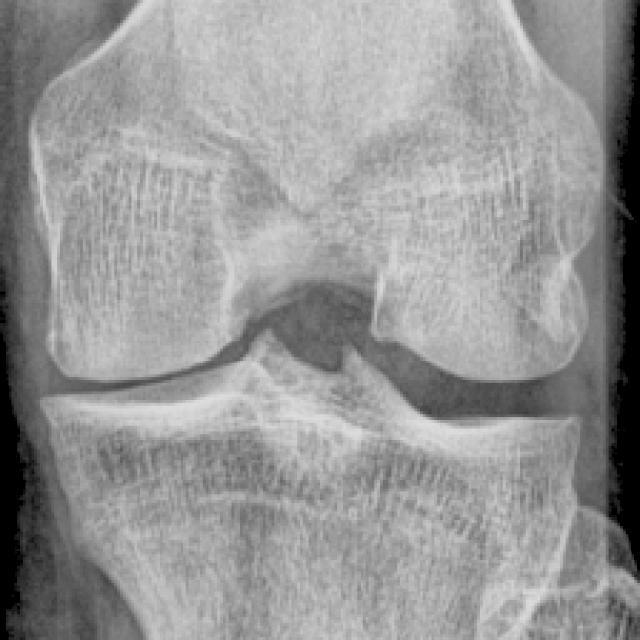femur: (30, 0, 604, 382)
tibia: (39, 330, 580, 638)
